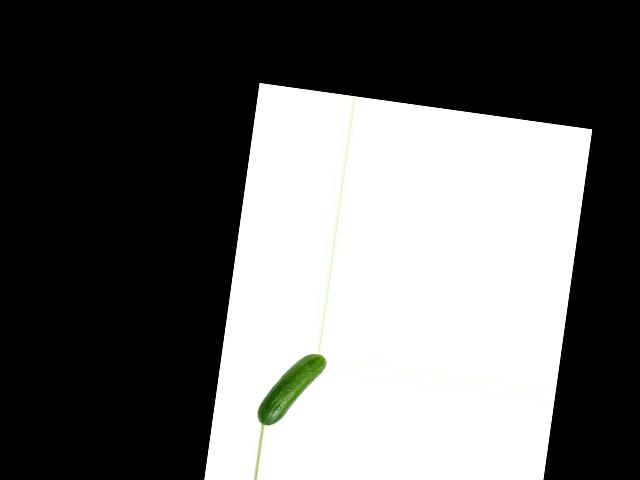cucumber: (255, 346, 327, 433)
